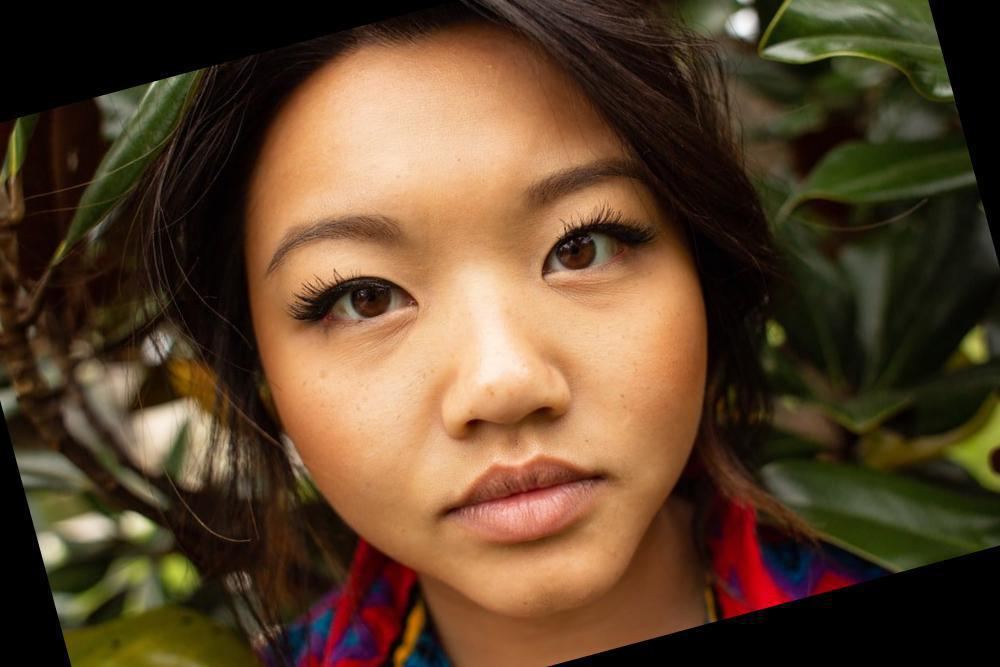Sober: (259, 57, 683, 565)
